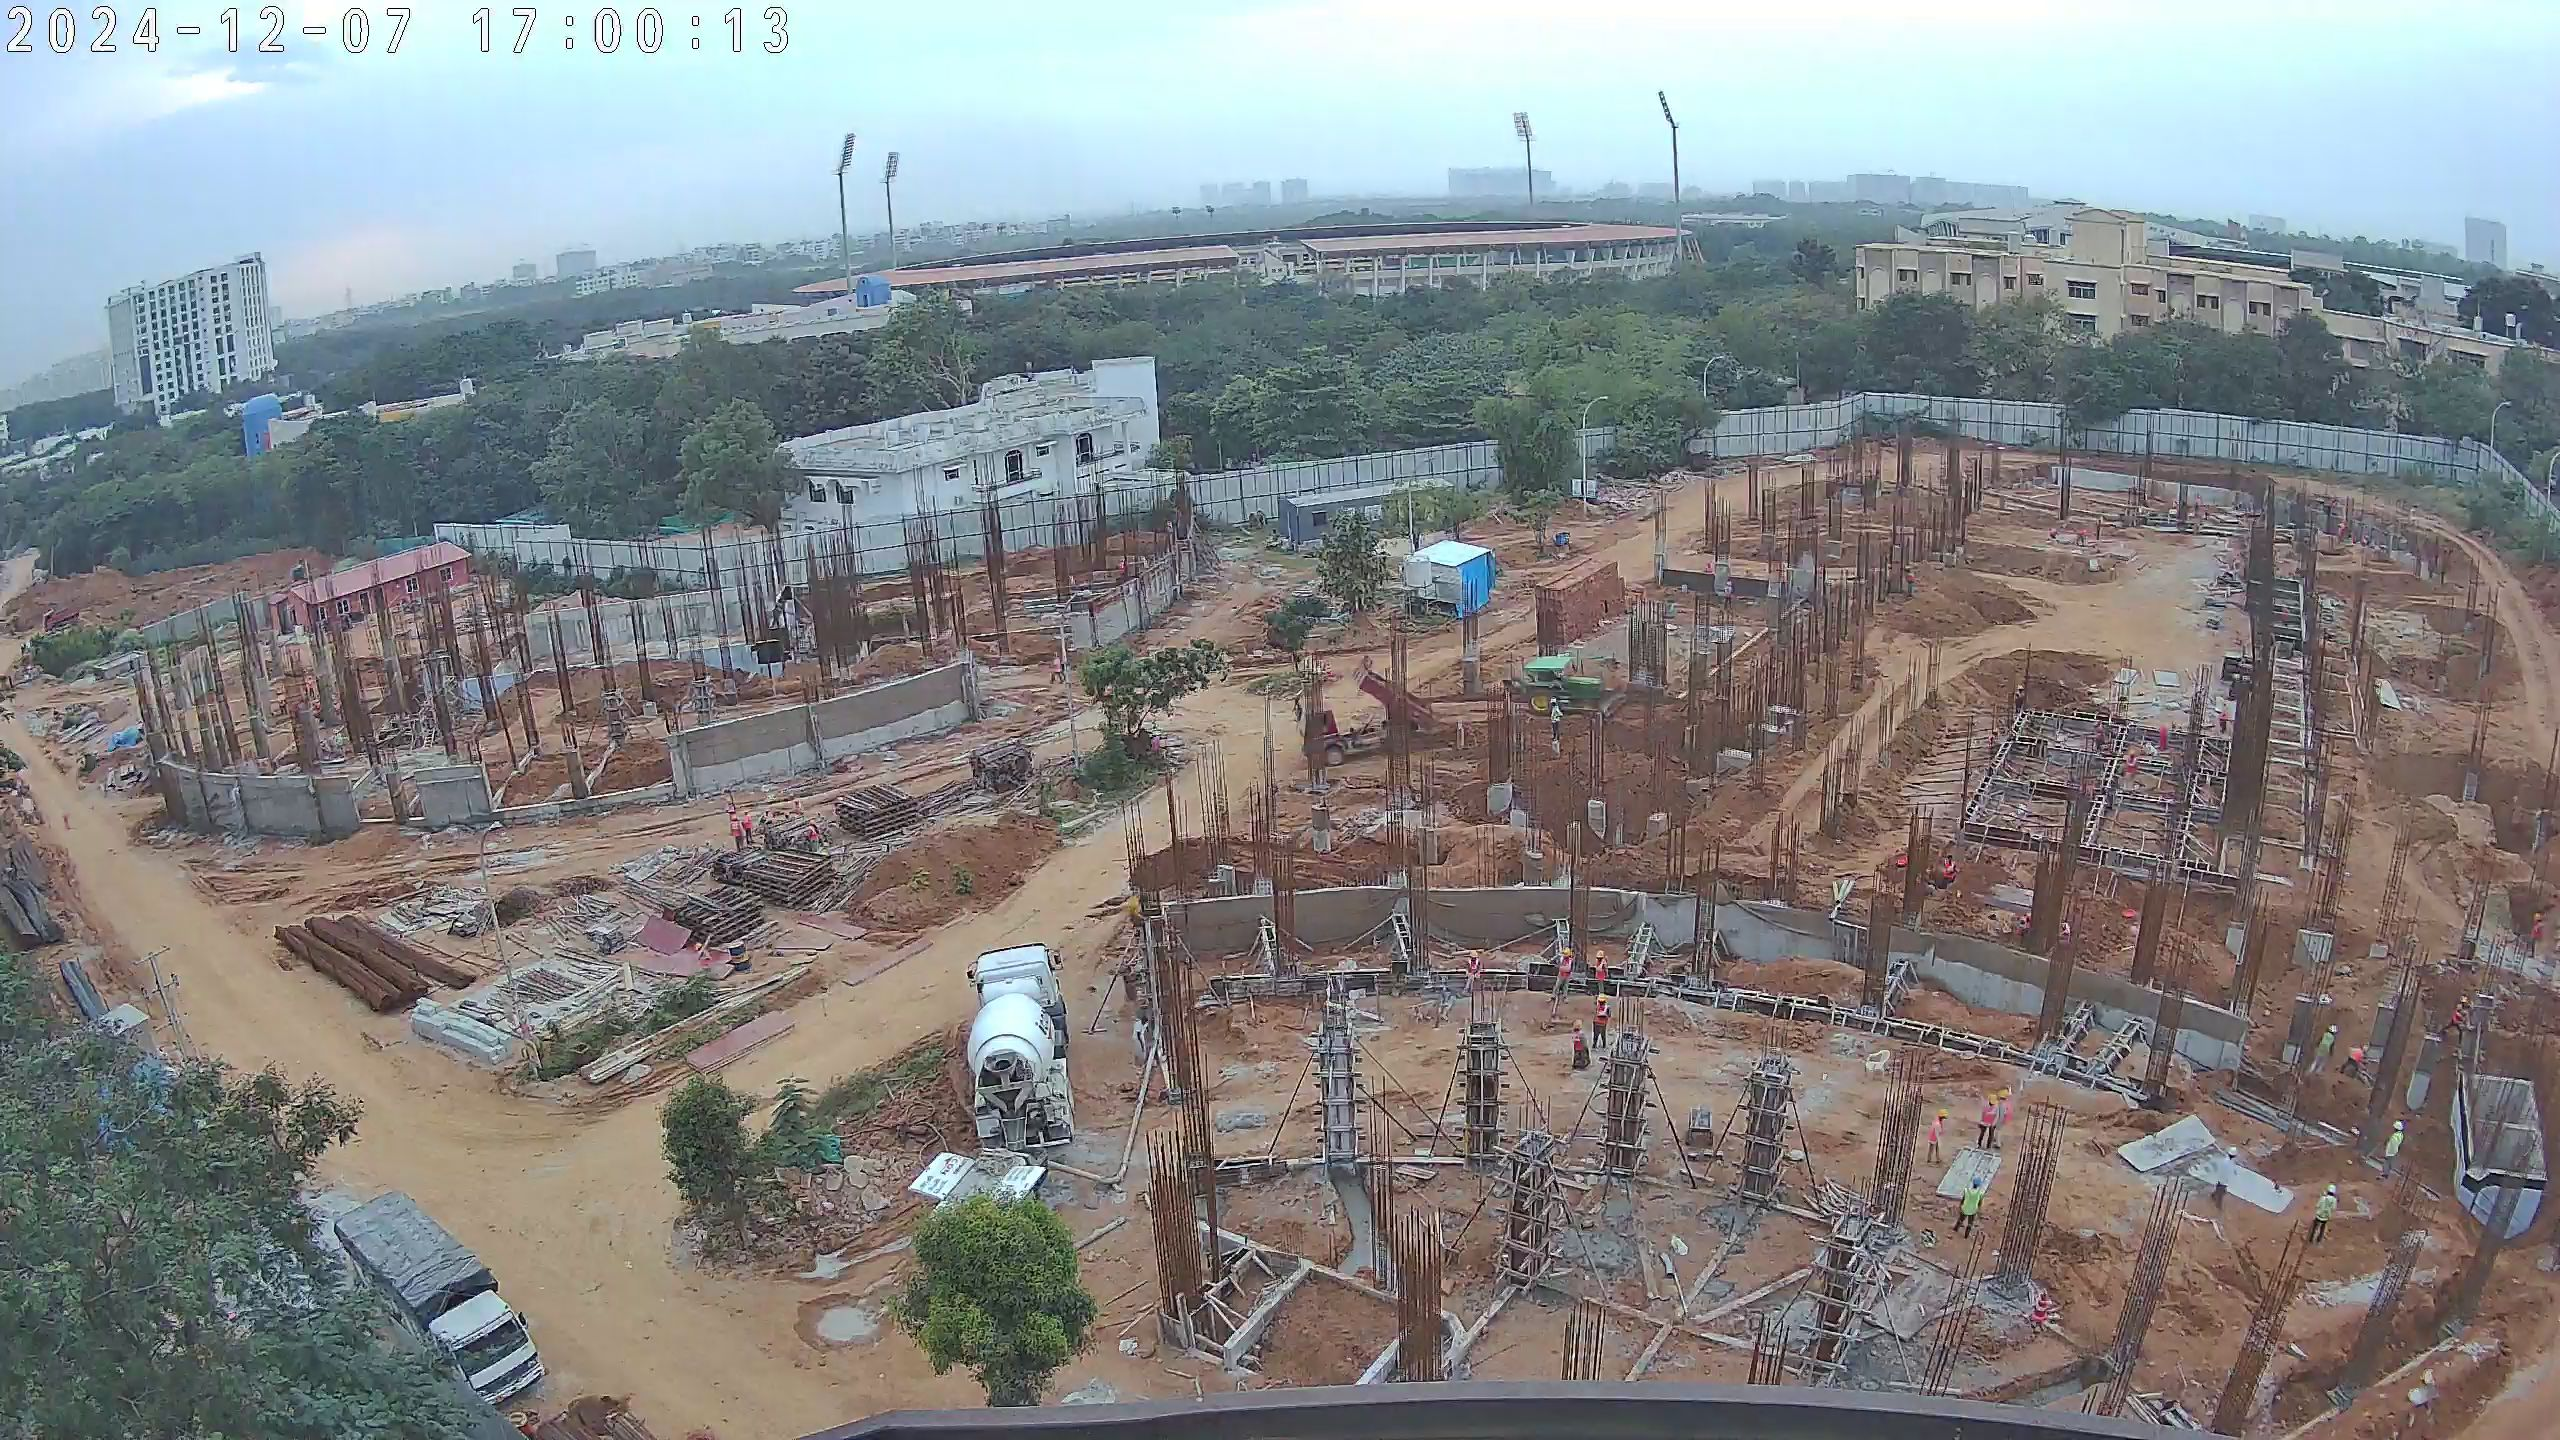bulldozer: (1495, 649, 1635, 728)
truck: (329, 1183, 550, 1408), (960, 941, 1080, 1154), (1293, 654, 1480, 771)
worker: (1949, 1174, 1985, 1239), (1543, 939, 1574, 1008), (1984, 1089, 2016, 1151), (2312, 1184, 2342, 1250), (2443, 989, 2474, 1052), (1974, 1085, 2002, 1153), (2379, 1114, 2404, 1187), (1919, 1108, 1950, 1166), (1458, 946, 1490, 999), (1569, 1015, 1596, 1073), (2523, 907, 2549, 966), (2309, 1024, 2337, 1076), (687, 939, 723, 979), (1585, 993, 1610, 1050), (2340, 1037, 2370, 1083), (1590, 948, 1612, 1000), (1544, 695, 1565, 743), (2120, 745, 2140, 791), (722, 799, 744, 838), (2008, 683, 2032, 716), (737, 808, 756, 849), (729, 813, 747, 855), (1046, 651, 1063, 689), (803, 825, 824, 854), (758, 807, 779, 834), (1719, 578, 1736, 610), (787, 796, 807, 823), (1902, 567, 1918, 598), (2073, 526, 2088, 553), (2046, 524, 2064, 545), (1701, 561, 1713, 575)
